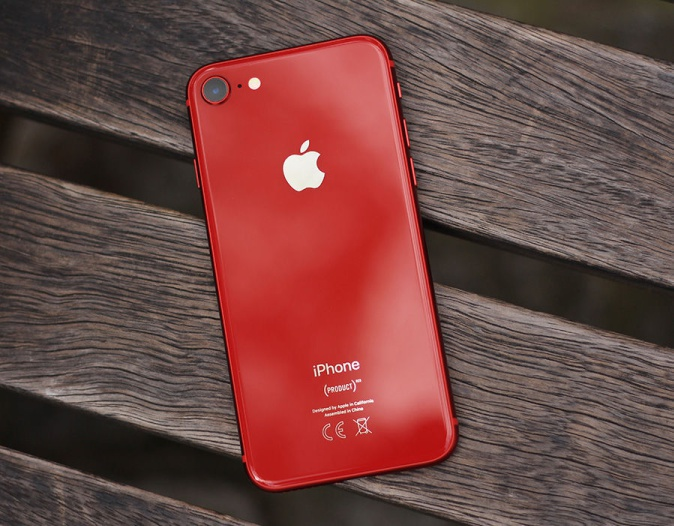apple: (276, 138, 353, 191)
